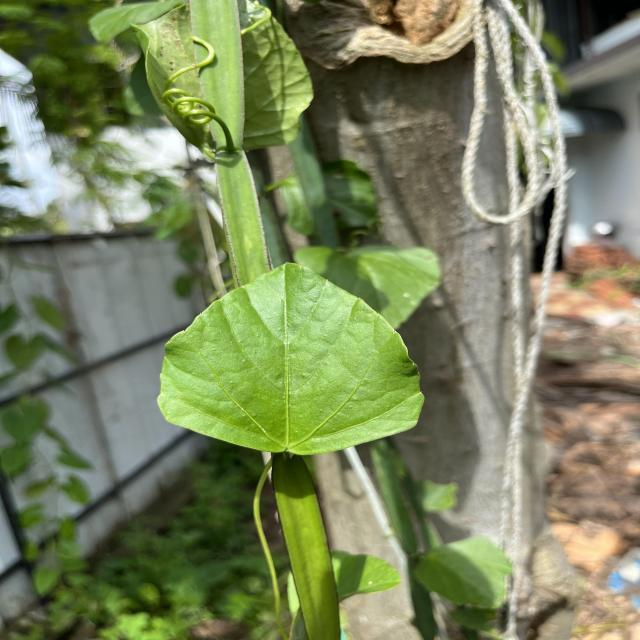Cissus quadrangularis: (152, 258, 428, 460)
